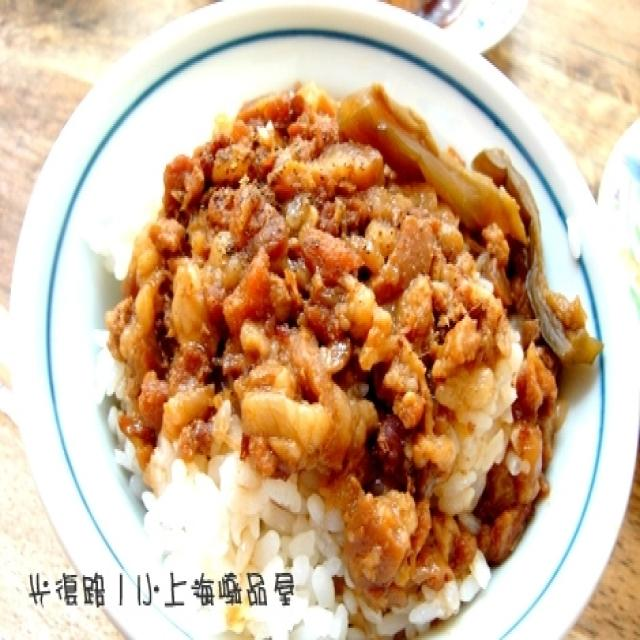猪肉菜式: (31, 26, 620, 634)
